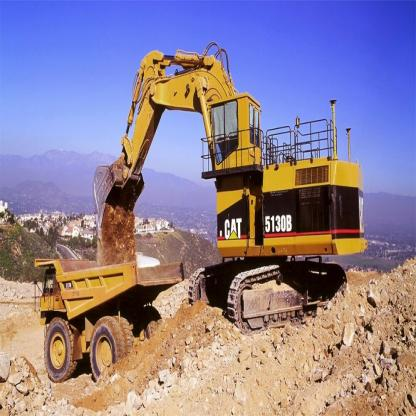dump_truck: (31, 244, 184, 392)
excavator: (90, 37, 366, 340)
